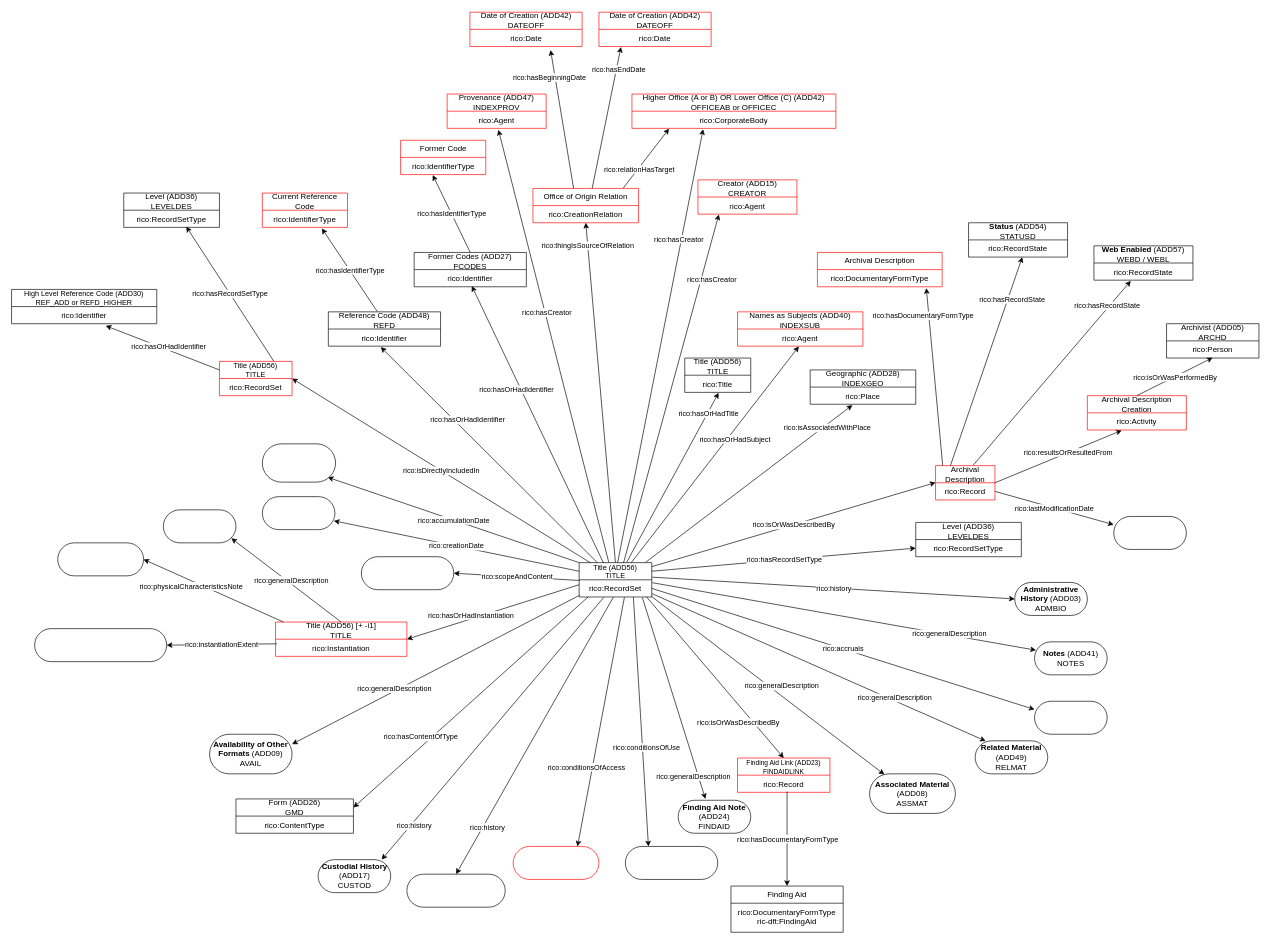
This 1271x946 diagram has some shape labels left out. Here are the shapes that lost their labels. From the top down, the centre of each, then its label:
At [299,462]: "Dates of Accumulation (ADD18) DATEACM".
At [199,526]: "How to Order (ADD31) HOWTO".
At [298,513]: "Dates of Creation (ADD19) DATECR".
At [1149,532]: "Date Modified (ADD21) MODDATE".
At [100,559]: "Physical Condition (ADD45) PHYSCO".
At [407,573]: "Scope and Content (ADD51) SCOPE".
At [100,645]: "Physical Description (ADD46) PHDESC".
At [1070,717]: "Accruals (ADD02) ACCRUAL".
At [555,862]: "Access Restrictions (ADD01) RESTRTX / REST".
At [671,862]: "Terms Governing Use (ADD55) TGU".
At [455,890]: "Immediate Source of Acquisition (ADD33) ISA".
